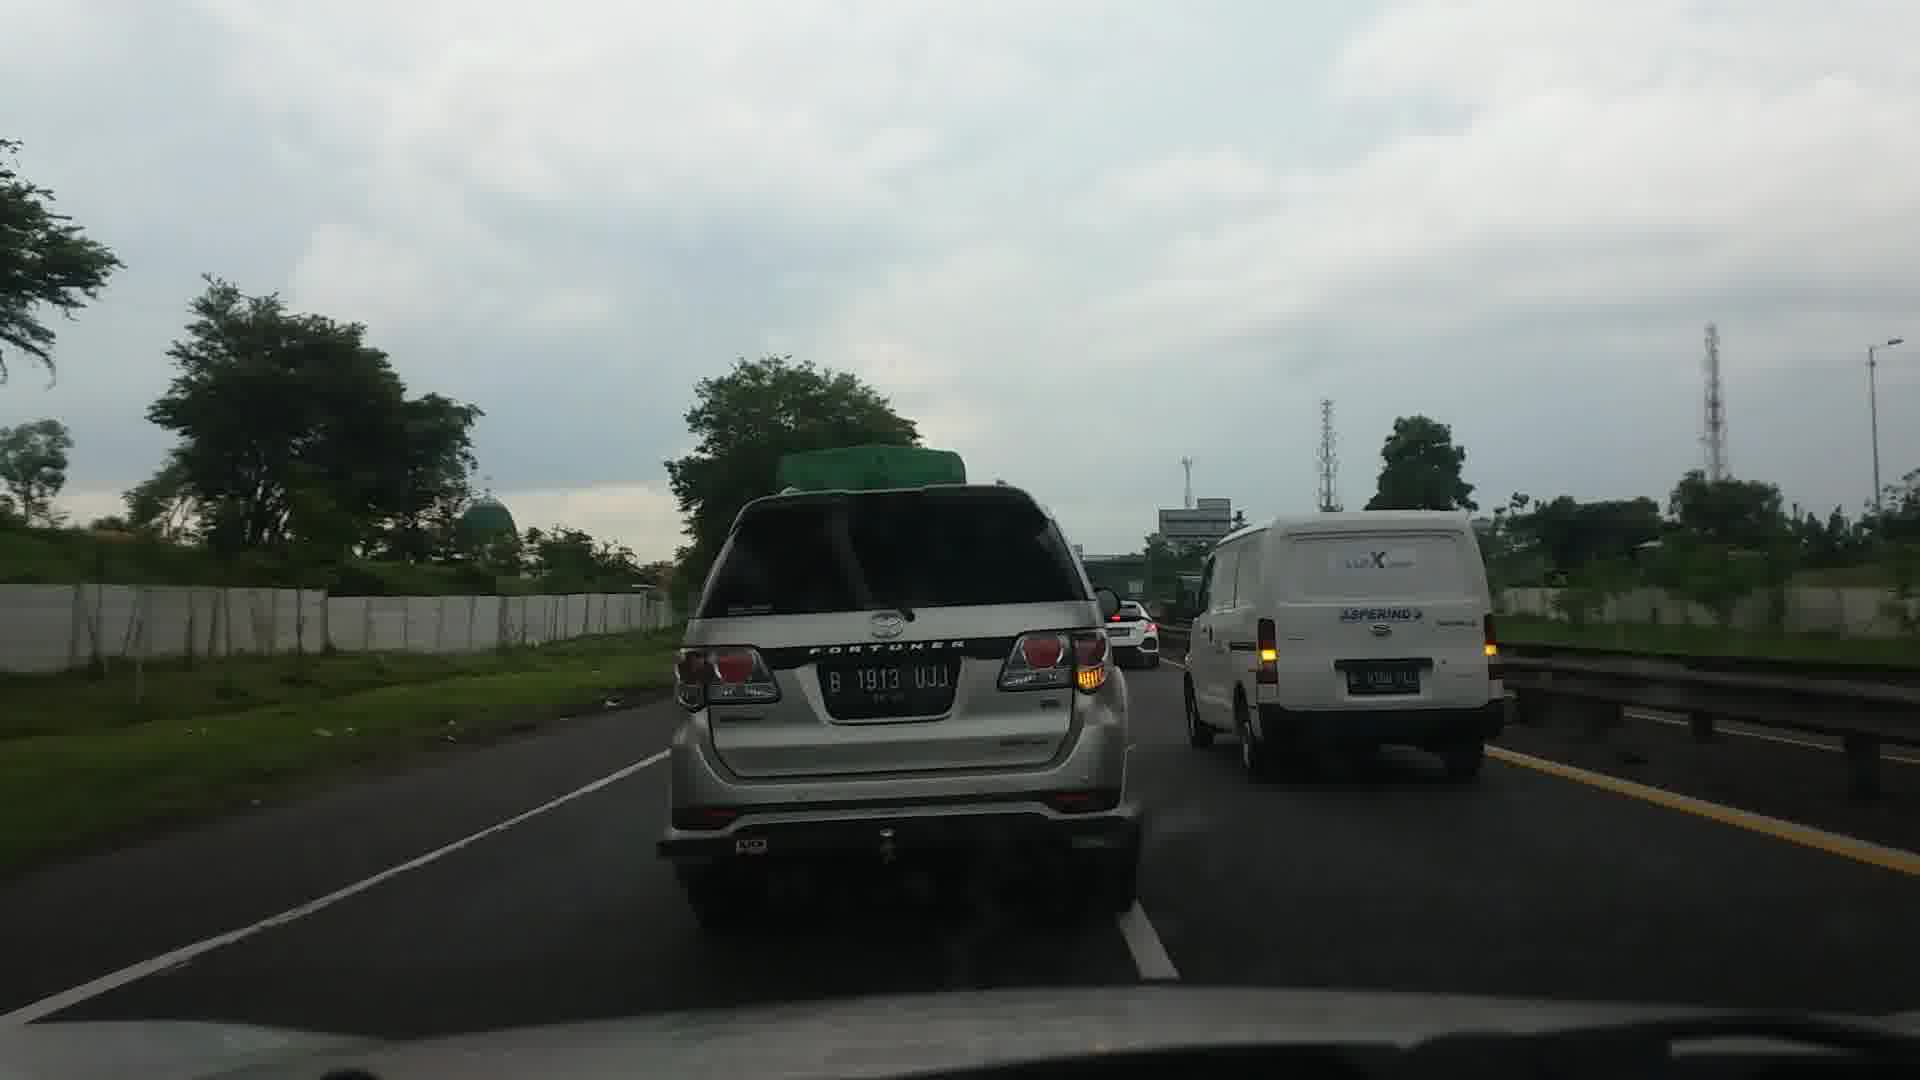plate_positive: (825, 663, 953, 704)
